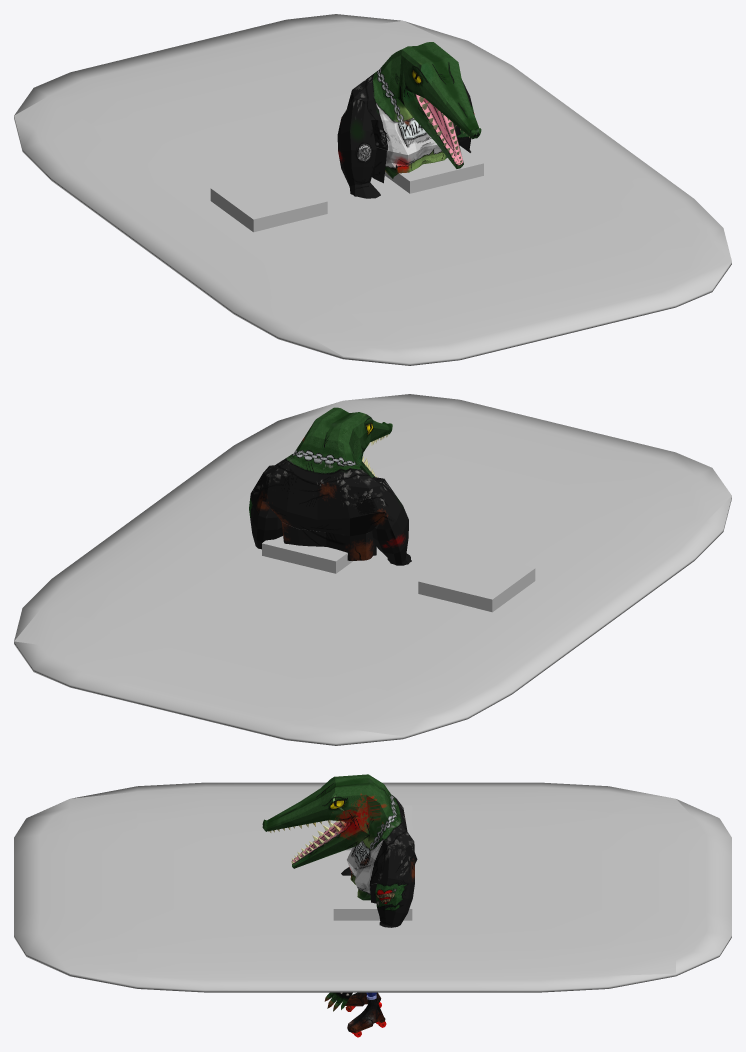
The model's file is cocodrilaBonesSelect_000041.obj.
3 renders of one model, top to bottom at view 1: azimuth 30°, elevation 25°; view 2: azimuth 150°, elevation 25°; view 3: azimuth 270°, elevation 25°, orthographic. The views are drawn at different scales.
Parts seen in each view (by area): view 1: Mball, Crocodile.002_Cylinder.002, Cube, Cube.001; view 2: Mball, Crocodile.002_Cylinder.002, Cube, Cube.001; view 3: Mball, Crocodile.002_Cylinder.002, Cube.001.
Boxes of the visible parts, x1,y1,x2,y2 form: Mball: (14, 14, 731, 365); Crocodile.002_Cylinder.002: (337, 42, 481, 198); Cube: (210, 170, 327, 232); Cube.001: (384, 145, 483, 193); Mball: (14, 394, 731, 745); Crocodile.002_Cylinder.002: (249, 407, 411, 565); Cube: (418, 550, 535, 612); Cube.001: (262, 536, 352, 573); Mball: (14, 782, 731, 992); Crocodile.002_Cylinder.002: (262, 774, 417, 1037); Cube.001: (333, 875, 412, 920).
Size of the model in its own units: 12.42 by 6.73 by 18.18.
